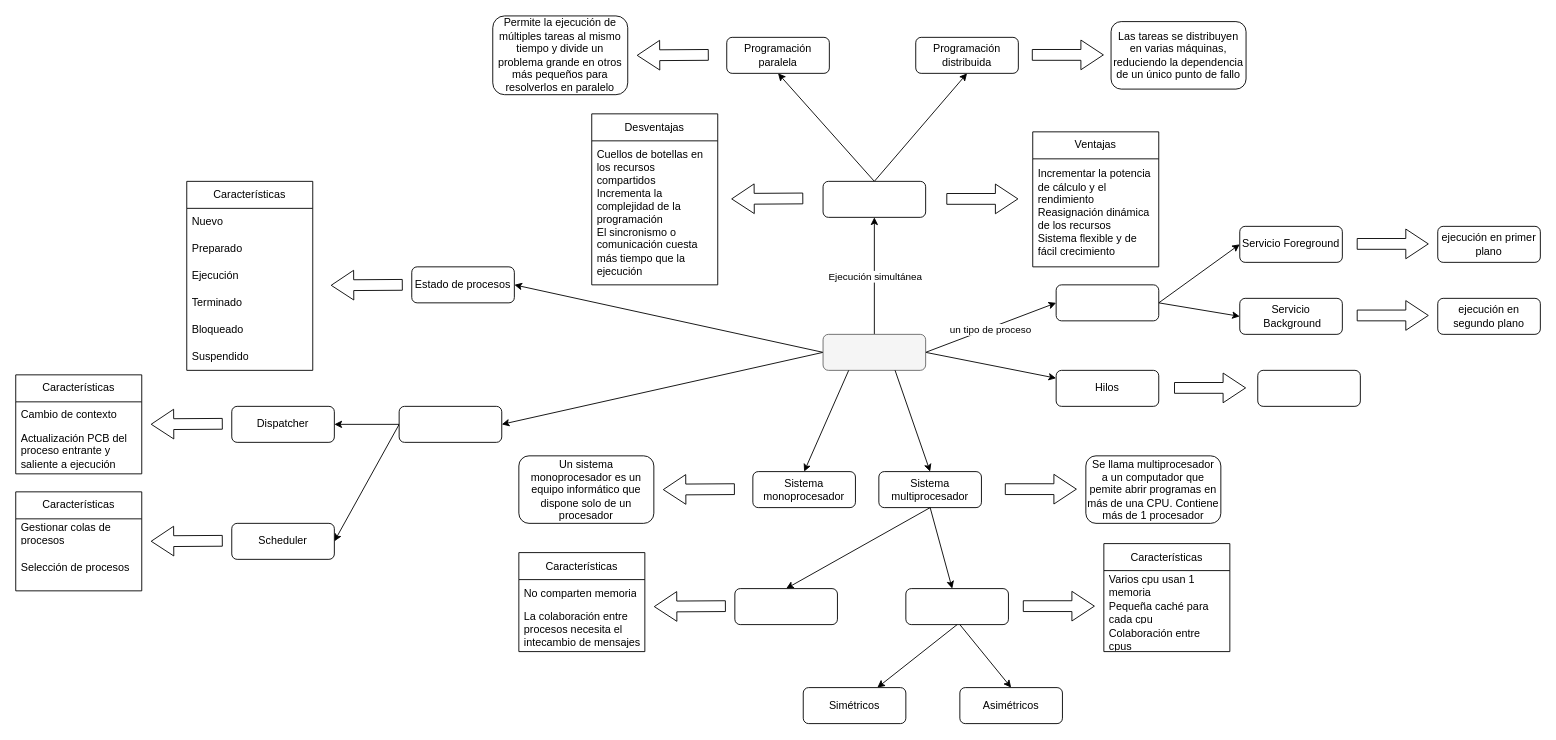
The diagram is 1556 pixels wide and 740 high, and some of its shapes have lost their labels. Here are the shapes that lost their labels. From the top down, the centre of each, then its label:
(x=874, y=198): Concurrencia
(x=1107, y=302): Servicio
(x=874, y=351): Procesos
(x=1308, y=387): Comparten recursos de procesos y memoria
(x=450, y=423): Gestión de procesos
(x=785, y=606): SM Débilmente acoplado
(x=956, y=606): SM Fuertemente acoplado
